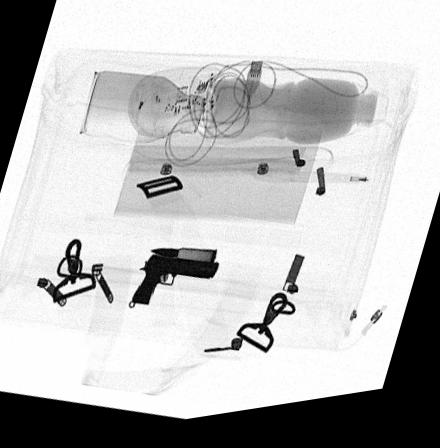Bullet: (149, 253, 217, 271)
Gun: (130, 258, 219, 311)
